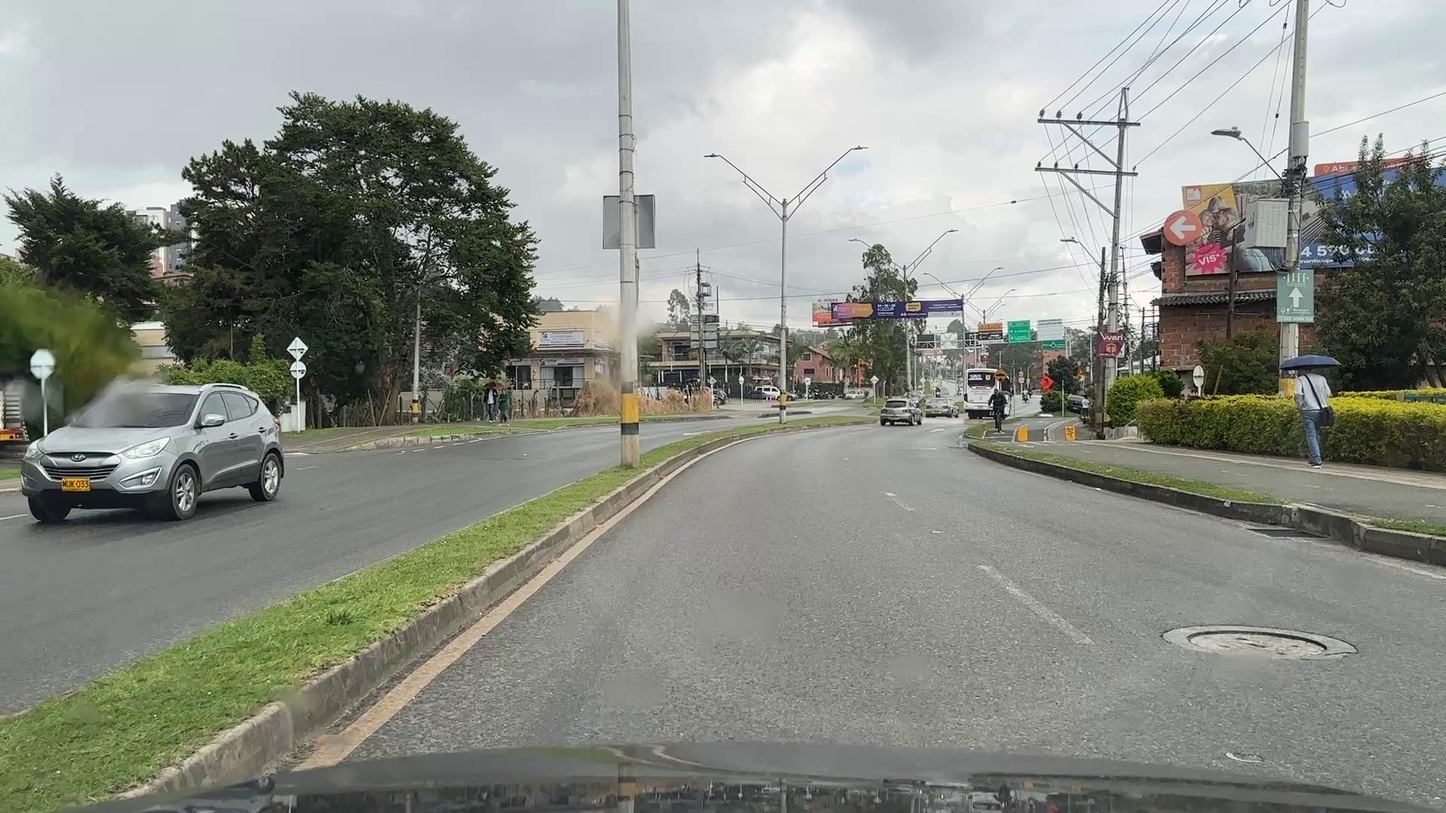registro: (1189, 630, 1326, 655)
rejilla: (1245, 529, 1327, 538)
